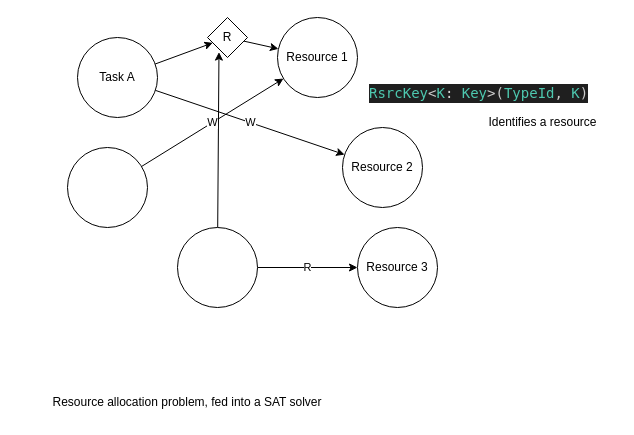
Some shapes in this 634 by 435 pixel diagram are drawn without their labels. Here are the shapes that lost their labels. From the top down, the centre of each, then its label:
At point 107,187: "Task C".
At point 217,267: "Task B".
